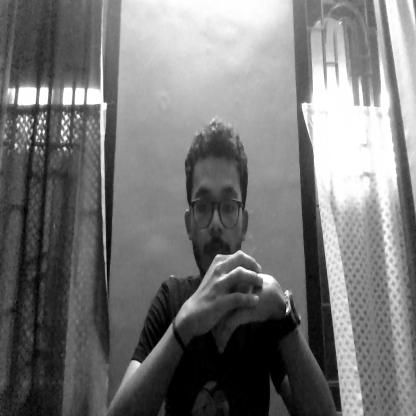Normal: (176, 118, 249, 278)
